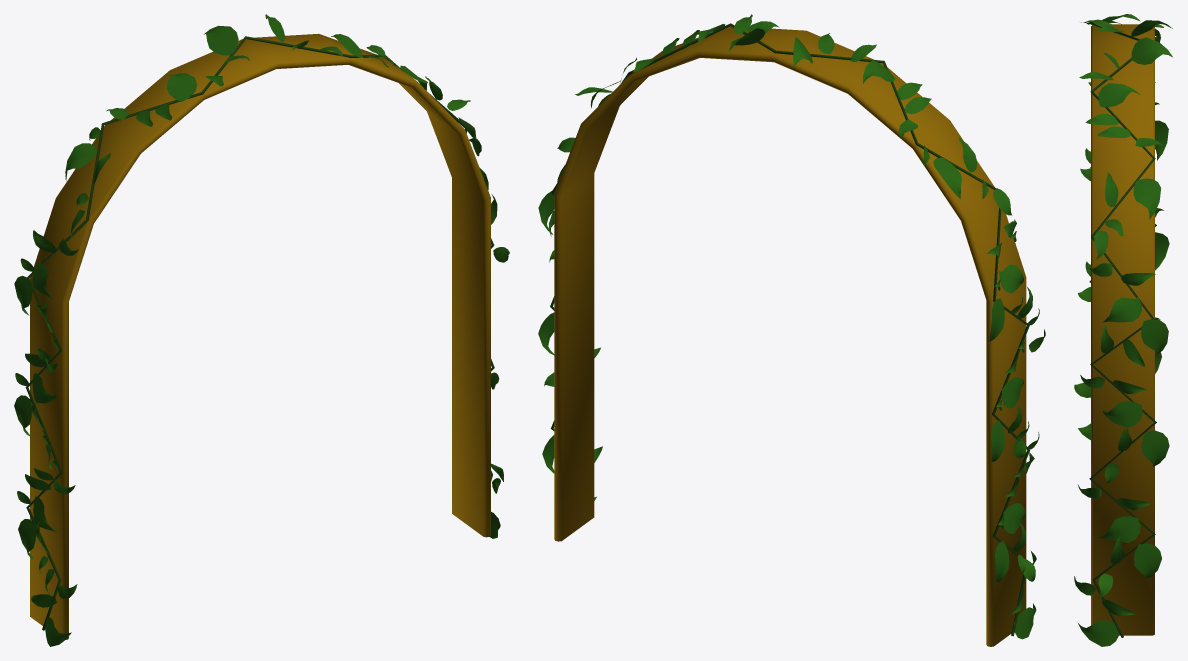
File: ivydoor2.fbx
3 renders of one model, left to right at view 1: azimuth 30°, elevation 25°; view 2: azimuth 150°, elevation 25°; view 3: azimuth 270°, elevation 25°, orthographic. The views are drawn at different scales.
Parts seen in each view (by area): view 1: ivydoor; view 2: ivydoor; view 3: ivydoor.
Part boxes in pixels (x1,y1,x2,y2): ivydoor: [14, 14, 509, 646]; ivydoor: [538, 14, 1045, 646]; ivydoor: [1074, 14, 1172, 646].
Bounding box in the file's own units: 1.45 × 1.65 × 0.2876.
